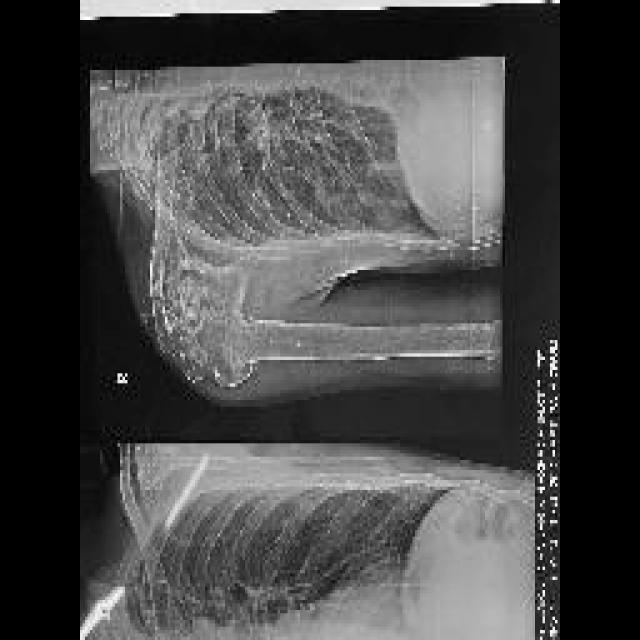bone-cancer: (149, 213, 262, 388)
